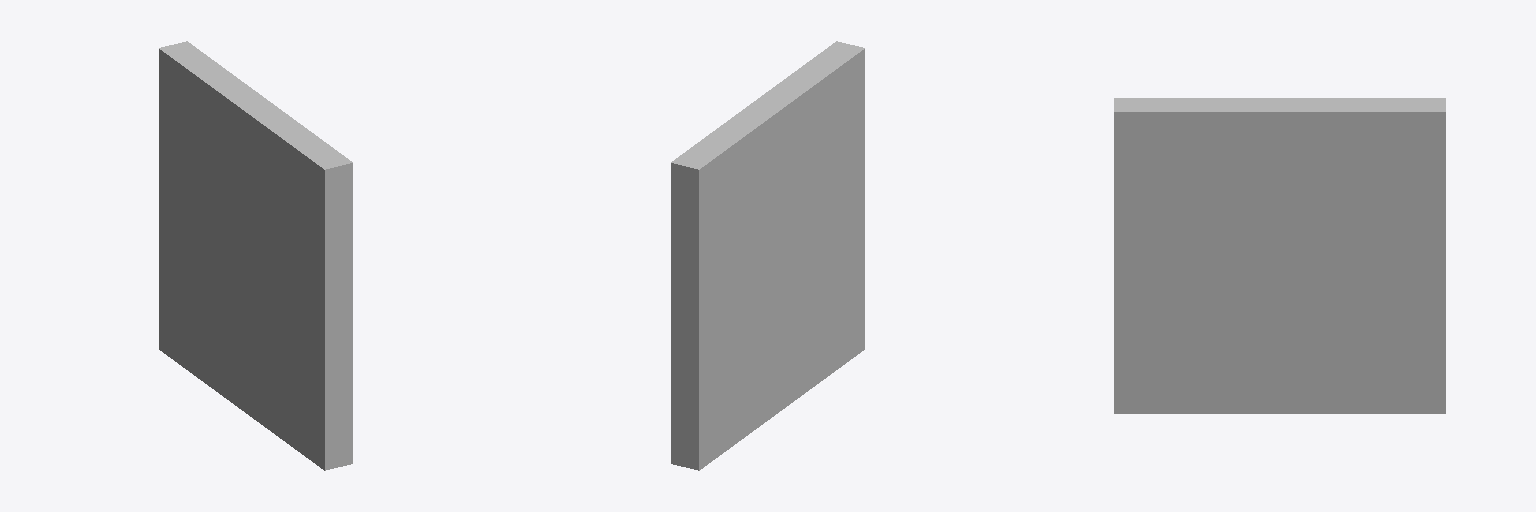
File: tiles_wall_door.obj
The picture shows the model from 3 angles: view 1: azimuth 30°, elevation 25°; view 2: azimuth 150°, elevation 25°; view 3: azimuth 270°, elevation 25°; orthographic projection.
Visible parts, largest first — view 1: Wall_Door_Cube.023; view 2: Wall_Door_Cube.023; view 3: Wall_Door_Cube.023.
Part boxes in pixels (x1,y1,x2,y2): Wall_Door_Cube.023: (159,41,352,470); Wall_Door_Cube.023: (671,41,864,470); Wall_Door_Cube.023: (1114,98,1445,413).
Size of the model in its own units: 0.2 by 2 by 2.